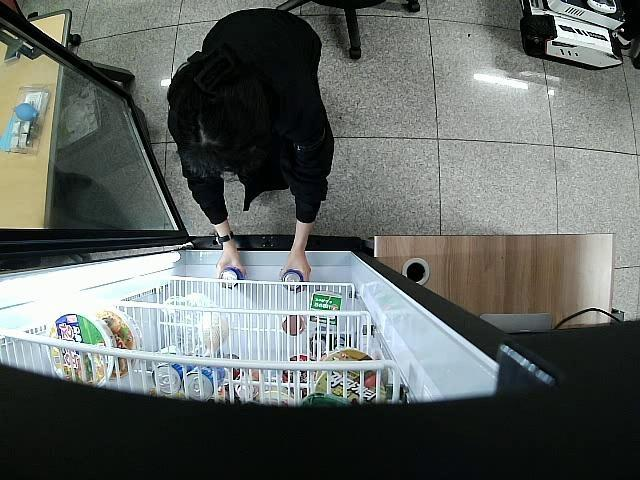13_pocariSweat: (219, 266, 242, 289), (282, 268, 302, 292)
